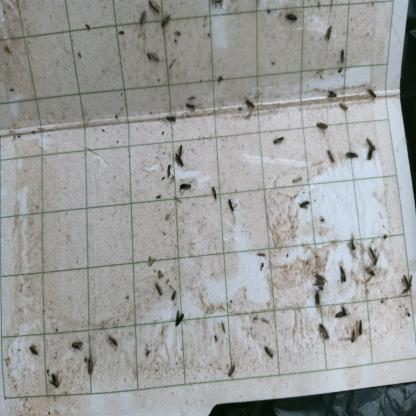prays_oleae: (239, 91, 258, 125), (311, 320, 335, 345), (396, 263, 414, 295), (105, 331, 127, 357), (256, 338, 280, 360), (83, 358, 103, 382), (294, 194, 312, 219), (171, 311, 189, 335), (24, 337, 42, 361), (335, 262, 350, 290), (318, 21, 334, 47), (280, 9, 300, 29), (218, 363, 238, 383), (343, 144, 361, 166), (345, 227, 357, 260), (142, 44, 160, 66), (360, 263, 379, 283), (184, 99, 202, 120), (51, 364, 61, 401), (223, 197, 241, 217), (332, 304, 350, 323), (179, 180, 196, 200), (69, 338, 89, 354), (206, 184, 221, 204), (148, 1, 164, 19), (367, 242, 382, 261), (336, 96, 350, 116), (172, 154, 188, 171), (366, 84, 381, 102), (326, 148, 338, 169), (314, 268, 328, 286), (154, 275, 164, 300), (163, 111, 178, 127), (160, 14, 175, 30), (311, 292, 325, 309), (273, 134, 287, 150), (349, 321, 356, 350), (336, 52, 350, 66), (356, 314, 363, 342), (314, 122, 330, 134), (367, 146, 376, 167), (327, 85, 338, 102), (364, 136, 382, 146), (138, 7, 146, 28), (176, 141, 184, 157)
